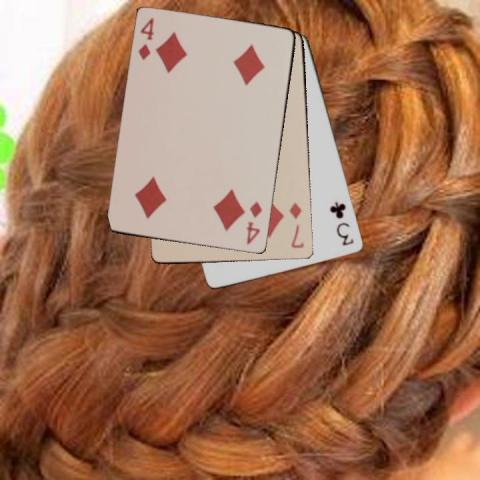3c: (328, 200, 356, 248)
4d: (244, 199, 263, 246), (136, 15, 155, 62)
7d: (287, 199, 305, 250)
